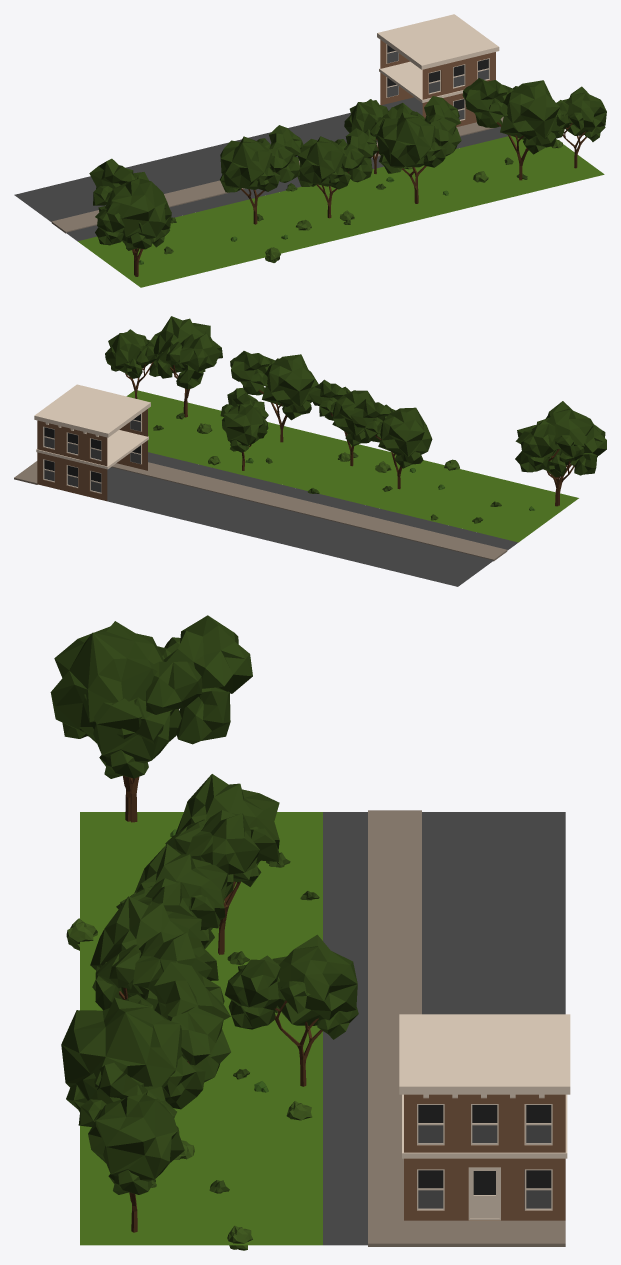
The model's file is city_nature_right1.glb.
3 views of the same model, one above another, from view 1: azimuth 30°, elevation 25°; view 2: azimuth 150°, elevation 25°; view 3: azimuth 270°, elevation 25° (orthographic). The views are drawn at different scales.
Visible parts, largest first — view 1: ground.009, Scatter.022, smallB.002, Trottoir.005, Scatter.023; view 2: ground.009, Scatter.022, smallB.002, Trottoir.005, Scatter.023; view 3: ground.009, Scatter.022, smallB.002, Trottoir.005, Trottoir.006, Scatter.023.
Part boxes in pixels (x1,y1,x2,y2): ground.009: (14,97,604,287); Scatter.022: (89,78,606,276); smallB.002: (377,14,499,127); Trottoir.005: (51,122,502,233); Scatter.023: (138,139,562,264); ground.009: (107,390,578,586); Scatter.022: (105,316,606,506); smallB.002: (34,384,150,501); Trottoir.005: (111,462,507,561); Scatter.023: (153,412,534,523); ground.009: (80,812,565,1245); Scatter.022: (50,615,358,1232); smallB.002: (399,1014,570,1220); Trottoir.005: (368,810,421,1220); Trottoir.006: (368,1220,565,1246); Scatter.023: (66,829,319,1250).
Bounding box in the file's own units: 62.95 × 12.82 × 28.89.
